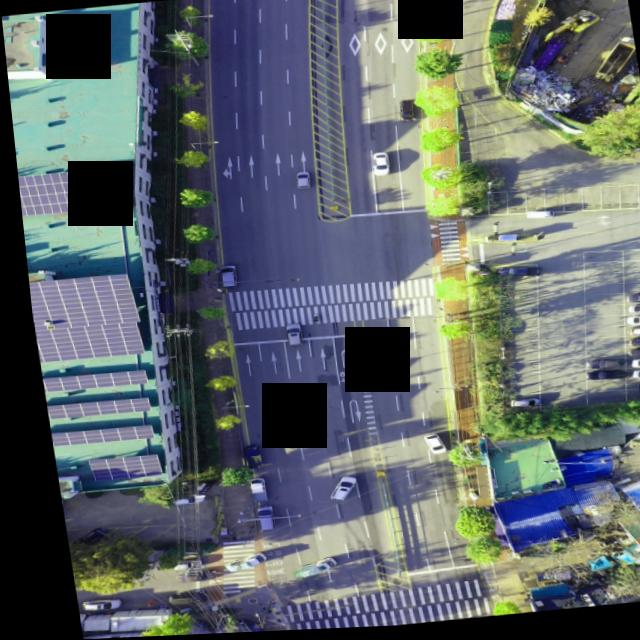car: (60, 526, 106, 549), (317, 478, 350, 504), (159, 590, 203, 605), (495, 268, 531, 286), (67, 597, 110, 612), (577, 376, 619, 389), (243, 508, 264, 533), (366, 156, 387, 180), (399, 15, 420, 39), (414, 437, 438, 458), (371, 154, 392, 178), (393, 101, 414, 125), (579, 362, 617, 375), (164, 572, 201, 585), (213, 268, 233, 291), (157, 496, 194, 508), (277, 328, 296, 351), (158, 560, 191, 573), (499, 402, 530, 413), (520, 214, 550, 225), (291, 174, 307, 192), (619, 319, 640, 332), (618, 299, 640, 311), (620, 309, 640, 322), (622, 343, 640, 355), (621, 352, 640, 363), (623, 362, 640, 374), (622, 331, 640, 342), (624, 376, 640, 387), (627, 387, 640, 399)
small_truck: (278, 559, 327, 581), (211, 556, 256, 576), (520, 573, 561, 589), (237, 480, 259, 506), (231, 448, 252, 473)
